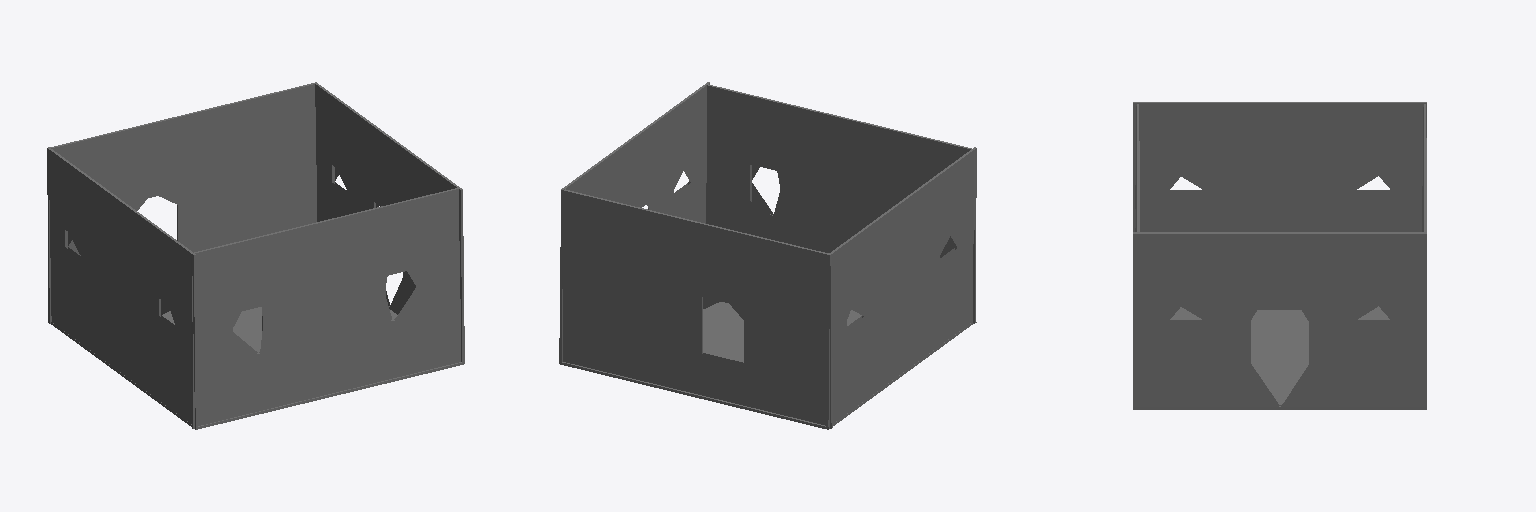
File: Room1.obj
3 renders of one model, left to right at view 1: azimuth 30°, elevation 25°; view 2: azimuth 150°, elevation 25°; view 3: azimuth 270°, elevation 25°, orthographic.
Parts seen in each view (by area): view 1: Room1; view 2: Room1; view 3: Room1.
Part boxes in pixels (bbox=[...]): Room1: bbox=[47, 82, 464, 429]; Room1: bbox=[559, 82, 976, 429]; Room1: bbox=[1133, 102, 1426, 409].
Size of the model in its own units: 31.84 by 19.66 by 29.85.